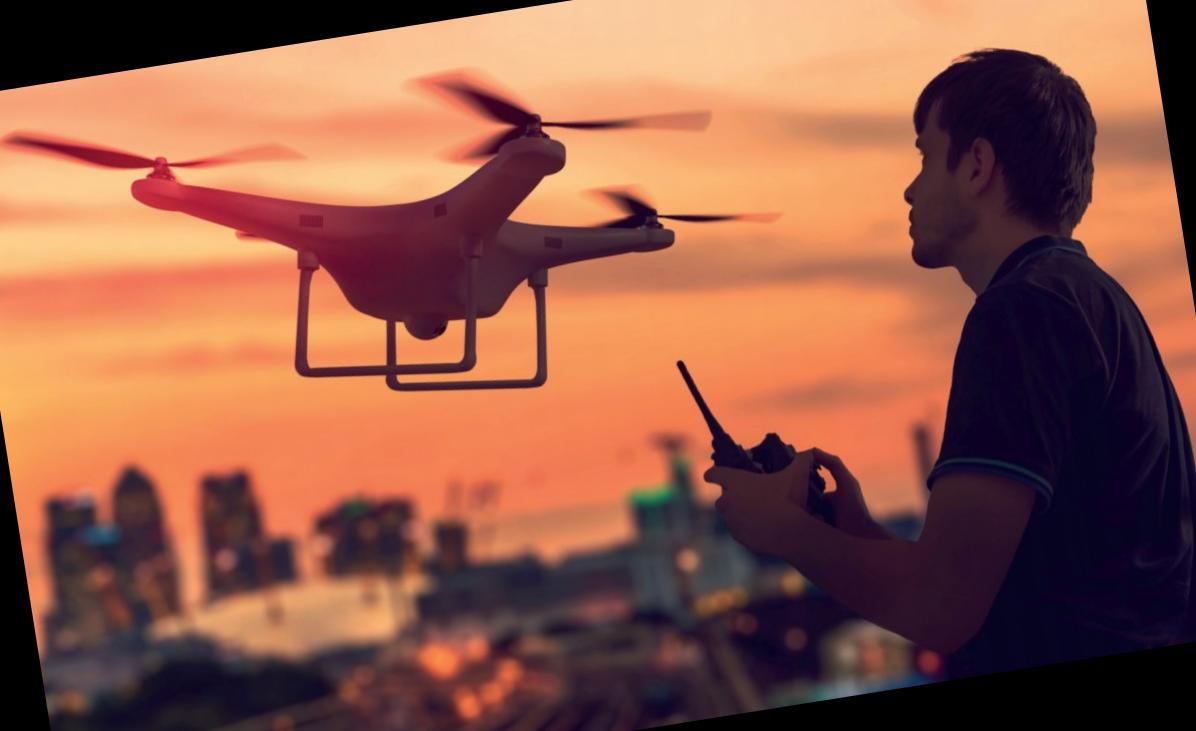drone: (0, 25, 776, 432)
